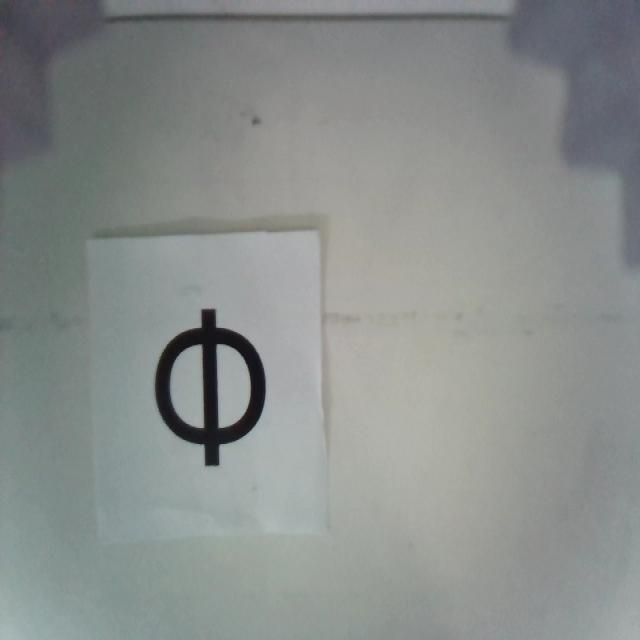F: (154, 310, 268, 461)
